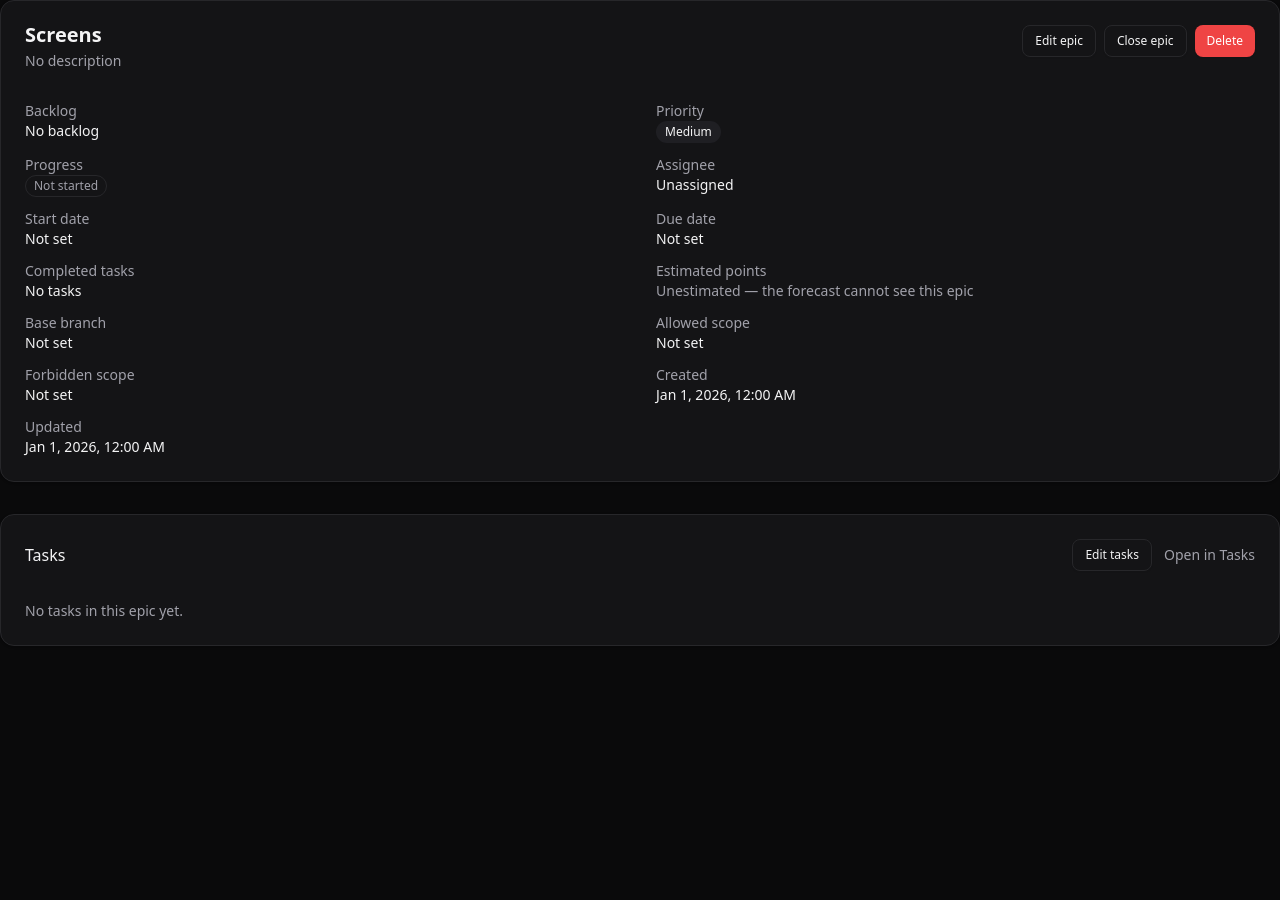
Test: closing an epic › closes through the epic's own endpoint and shows the badge
Expected: the text "Closed" is not shown
Step 1. Click the button "Close epic" → x=1145, y=41, box x1=1104 y1=25 x2=1186 y2=57
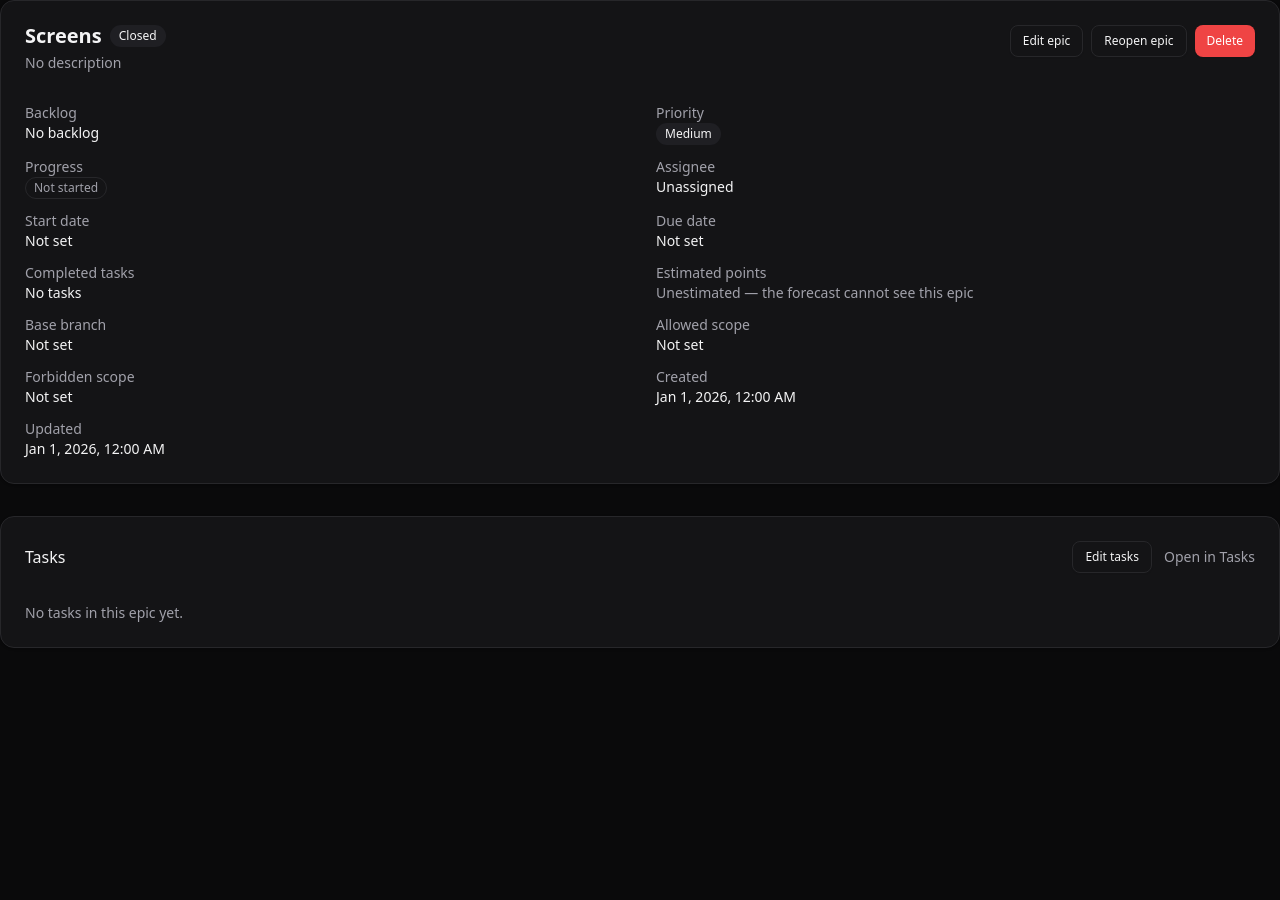
Expected: the text "Closed" is shown, x1=110 y1=25 x2=166 y2=47
